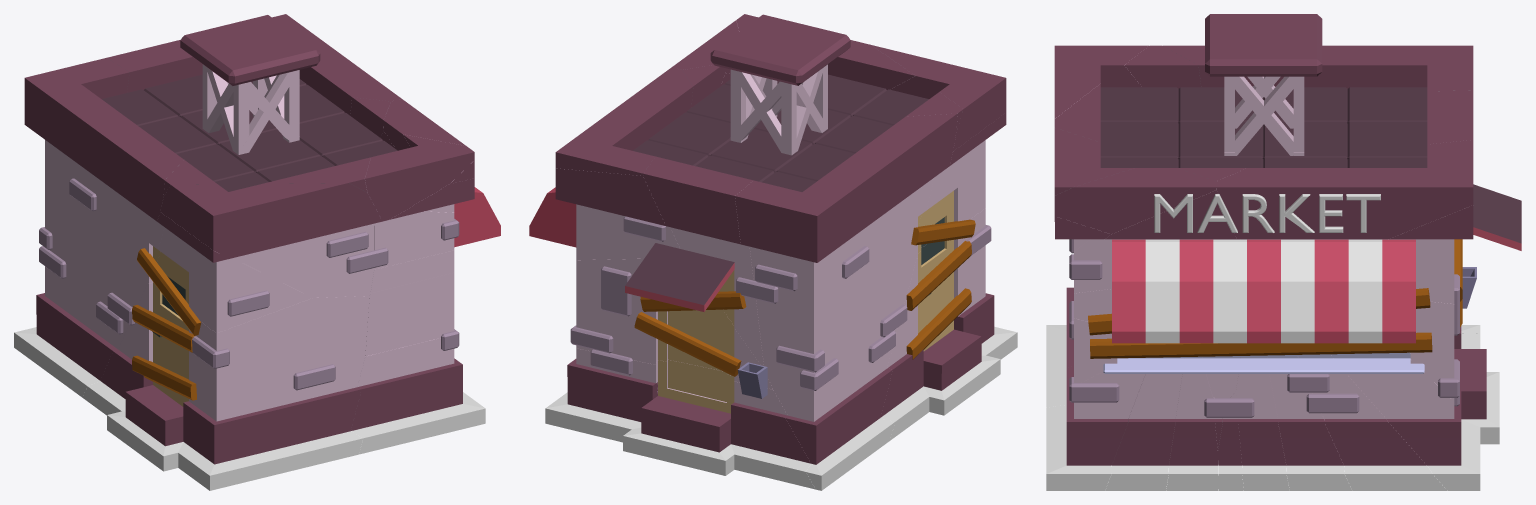
File: SupermarketBaseSeperatedParts.fbx
3 views of the same model, side by side, from view 1: azimuth 30°, elevation 25°; view 2: azimuth 150°, elevation 25°; view 3: azimuth 270°, elevation 25° (orthographic). The views are drawn at different scales.
Visible parts, largest first — view 1: Market.080_cell.014, Market.080_cell.013, Market.080_cell.001, Market.080_cell.003, Market.080_cell.010, Market.012, Market.080_cell.007, Market.080_cell.020, Market.080_cell.005, Market.080_cell.025, Market.080_cell.024, Market.065 (+33 smaller); view 2: Market.080_cell.013, Market.080_cell.016, Market.080_cell.014, Market.080_cell.024, Market.080_cell.009, Market.080_cell.005, Market.080_cell, Market.012, Market.080_cell.001, Market.040, Market.080_cell.010, Market.080_cell.018 (+37 smaller); view 3: Market.014, Market.080_cell.005, Market.080_cell.016, Market.080_cell.013, Market.080_cell.003, Market.012, Market.080_cell.008, Market.080_cell.015, Market.080_cell.017, Market.080_cell.022, Market.015, Market.080_cell.004 (+40 smaller).
Boxes of the visible parts, bbox=[...] form: Market.080_cell.014: bbox=[82, 282, 369, 490]; Market.080_cell.013: bbox=[14, 57, 183, 397]; Market.080_cell.001: bbox=[160, 183, 382, 297]; Market.080_cell.003: bbox=[351, 338, 485, 454]; Market.080_cell.010: bbox=[148, 212, 312, 333]; Market.012: bbox=[180, 15, 320, 85]; Market.080_cell.007: bbox=[365, 134, 474, 221]; Market.080_cell.020: bbox=[365, 272, 454, 356]; Market.080_cell.005: bbox=[272, 14, 401, 115]; Market.080_cell.025: bbox=[374, 131, 454, 269]; Market.080_cell.024: bbox=[107, 39, 202, 92]; Market.065: bbox=[299, 112, 382, 156]; Market.080_cell.013: bbox=[735, 113, 957, 490]; Market.080_cell.016: bbox=[545, 348, 815, 489]; Market.080_cell.014: bbox=[880, 208, 1017, 440]; Market.080_cell.024: bbox=[643, 156, 763, 365]; Market.080_cell.009: bbox=[576, 258, 772, 389]; Market.080_cell.005: bbox=[555, 67, 693, 175]; Market.080_cell: bbox=[555, 168, 679, 260]; Market.012: bbox=[710, 14, 850, 85]; Market.080_cell.001: bbox=[871, 45, 1006, 151]; Market.040: bbox=[625, 243, 734, 311]; Market.080_cell.010: bbox=[917, 113, 1006, 257]; Market.080_cell.018: bbox=[828, 41, 963, 130]; Market.014: bbox=[1112, 239, 1415, 343]; Market.080_cell.005: bbox=[1216, 140, 1473, 239]; Market.080_cell.016: bbox=[1331, 326, 1499, 490]; Market.080_cell.013: bbox=[1163, 45, 1480, 333]; Market.080_cell.003: bbox=[1046, 357, 1149, 490]; Market.012: bbox=[1205, 14, 1322, 76]; Market.080_cell.008: bbox=[1297, 354, 1446, 490]; Market.080_cell.015: bbox=[1054, 168, 1216, 234]; Market.080_cell.017: bbox=[1105, 357, 1184, 490]; Market.080_cell.022: bbox=[1267, 355, 1351, 490]; Market.015: bbox=[1103, 358, 1424, 373]; Market.080_cell.004: bbox=[1166, 356, 1218, 490].
Size of the model in its own units: 8.92 by 8.71 by 9.87.
